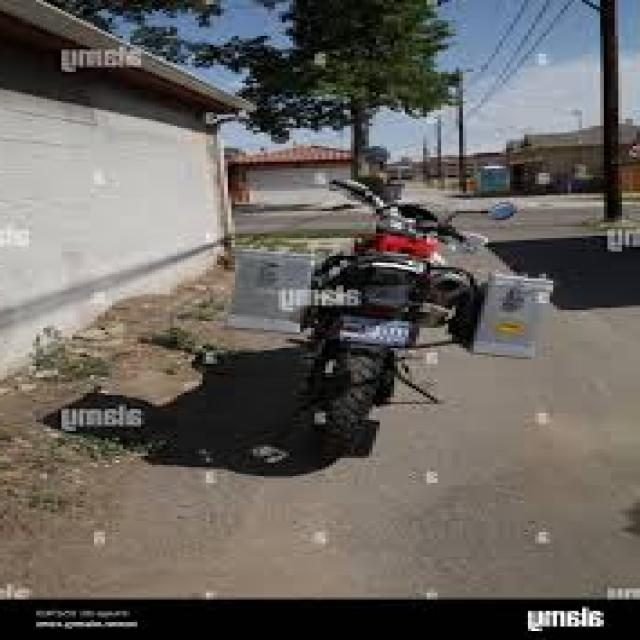bike: (228, 177, 560, 460)
